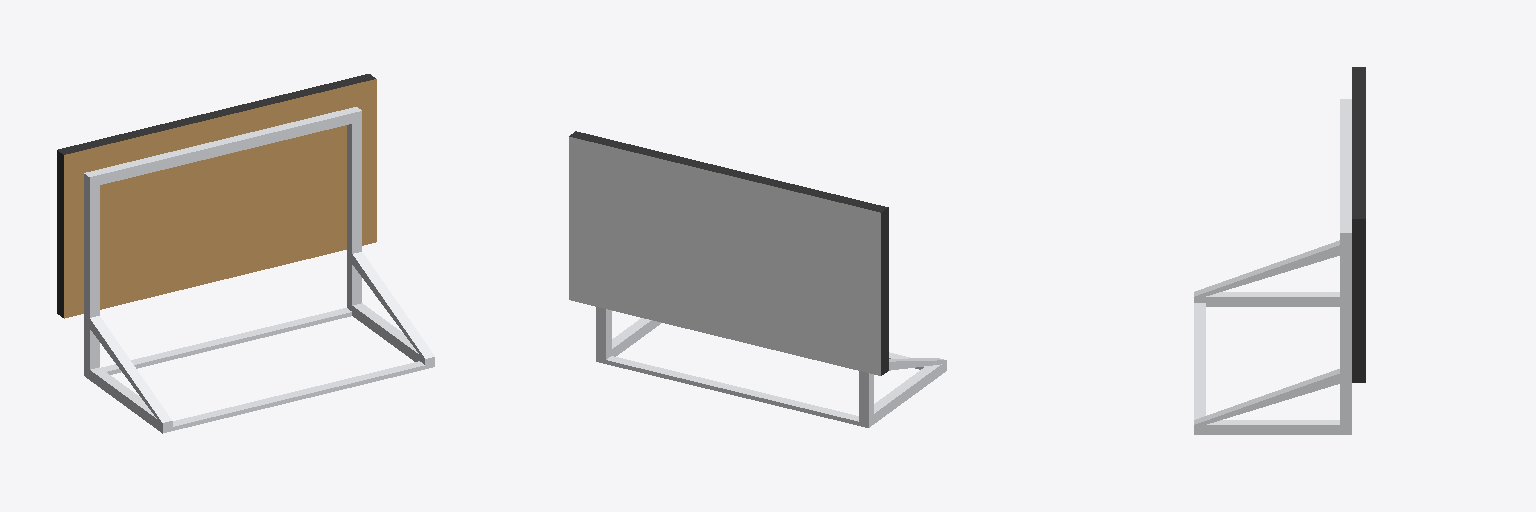
File: billboardLow.obj
The picture shows the model from 3 angles: view 1: azimuth 30°, elevation 25°; view 2: azimuth 150°, elevation 25°; view 3: azimuth 270°, elevation 25°; orthographic projection.
Visible parts, largest first — view 1: billboardLow; view 2: billboardLow; view 3: billboardLow.
Part boxes in pixels (x1,y1,x2,y2): billboardLow: (57,74,434,433); billboardLow: (569,131,946,427); billboardLow: (1194,67,1365,434).
Size of the model in its own units: 10 by 6.9 by 4.76.